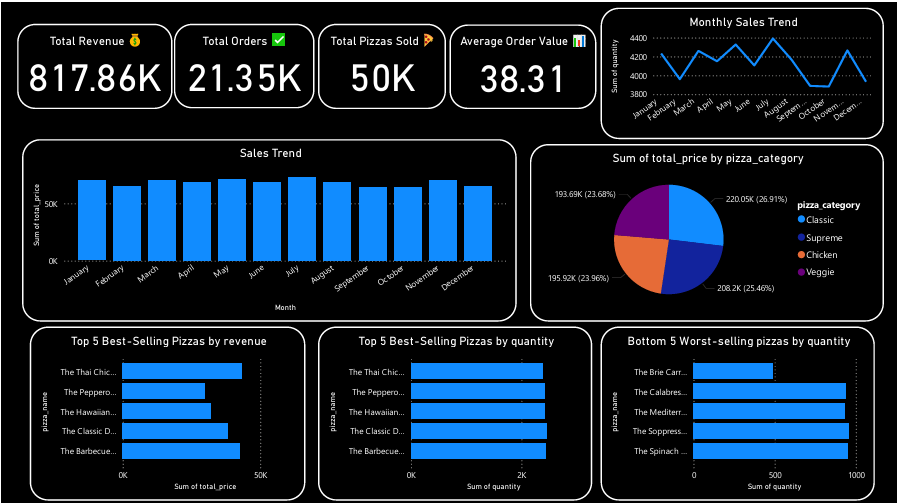

What the dashboard file says about the page in this screenshot:
{"tool":"powerbi","page":{"name":"Dashboard","canvas":[1280,720],"ordinal":0},"visuals":[{"type":"card","title":"Total Revenue 💰","fields":{"Values":["Sum(pizza_sales_clean.total_price)"]},"box":[22,30,222,122],"z":0},{"type":"card","title":"Total Orders ✅","fields":{"Values":["Count(pizza_sales_clean.order_id)"]},"box":[246,30,201,121],"z":1000},{"type":"card","title":"Total Pizzas Sold 🍕","fields":{"Values":["Sum(pizza_sales_clean.quantity)"]},"box":[452,30,183,122],"z":2000},{"type":"lineChart","title":"Monthly Sales Trend","fields":{"Category":["pizza_sales_clean.order_date.Variation.Date Hierarchy.Month"],"Y":["Sum(pizza_sales_clean.quantity)"]},"box":[856,7,405,188],"z":3000},{"type":"card","title":"Average Order Value 📊","fields":{"Values":["pizza_sales_clean.AOV"]},"box":[640,31,210,121],"z":4000},{"type":"clusteredBarChart","title":"Top 5 Best-Selling Pizzas by quantity","fields":{"Category":["pizza_sales_clean.pizza_name"],"Y":["Sum(pizza_sales_clean.quantity)"]},"box":[452,463,392,249],"z":5000},{"type":"clusteredBarChart","title":"Bottom 5 Worst-selling pizzas by quantity","fields":{"Category":["pizza_sales_clean.pizza_name"],"Y":["Sum(pizza_sales_clean.quantity)"]},"box":[856,463,392,249],"z":6000},{"type":"clusteredColumnChart","title":"Sales Trend","fields":{"Category":["pizza_sales_clean.order_date.Variation.Date Hierarchy.Month"],"Y":["Sum(pizza_sales_clean.total_price)"]},"box":[29,195,707,261],"z":7000},{"type":"pieChart","fields":{"Category":["pizza_sales_clean.pizza_category"],"Y":["Sum(pizza_sales_clean.total_price)"]},"box":[755,202,506,254],"z":8000},{"type":"clusteredBarChart","title":"Top 5 Best-Selling Pizzas by revenue","fields":{"Category":["pizza_sales_clean.pizza_name"],"Y":["Sum(pizza_sales_clean.total_price)"]},"box":[40,463,394,249],"z":9000}]}

Visuals, with their boxes in screenshot pixels (x1, y1, x2, y2), scaled from the page's 1280x720 canvas onto the 899x503 screenshot:
"Total Revenue 💰" card: detection(15, 21, 171, 106)
"Total Orders ✅" card: detection(173, 21, 314, 105)
"Total Pizzas Sold 🍕" card: detection(317, 21, 446, 106)
"Monthly Sales Trend" lineChart: detection(601, 5, 886, 136)
"Average Order Value 📊" card: detection(450, 22, 597, 106)
"Top 5 Best-Selling Pizzas by quantity" clusteredBarChart: detection(317, 323, 593, 497)
"Bottom 5 Worst-selling pizzas by quantity" clusteredBarChart: detection(601, 323, 877, 497)
"Sales Trend" clusteredColumnChart: detection(20, 136, 517, 319)
pieChart - pizza_sales_clean.pizza_category x Sum(pizza_sales_clean.total_price): detection(530, 141, 886, 319)
"Top 5 Best-Selling Pizzas by revenue" clusteredBarChart: detection(28, 323, 305, 497)
